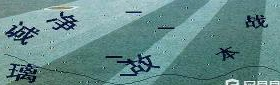chinese: (127, 52, 156, 78), (8, 19, 33, 44), (49, 10, 76, 33), (8, 64, 35, 85), (245, 12, 269, 31), (217, 46, 239, 64)
